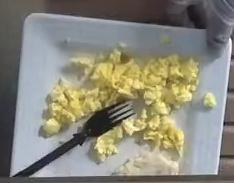scrambled_eggs: (40, 47, 198, 161)
